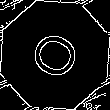O_SE: (23, 24, 87, 86)
